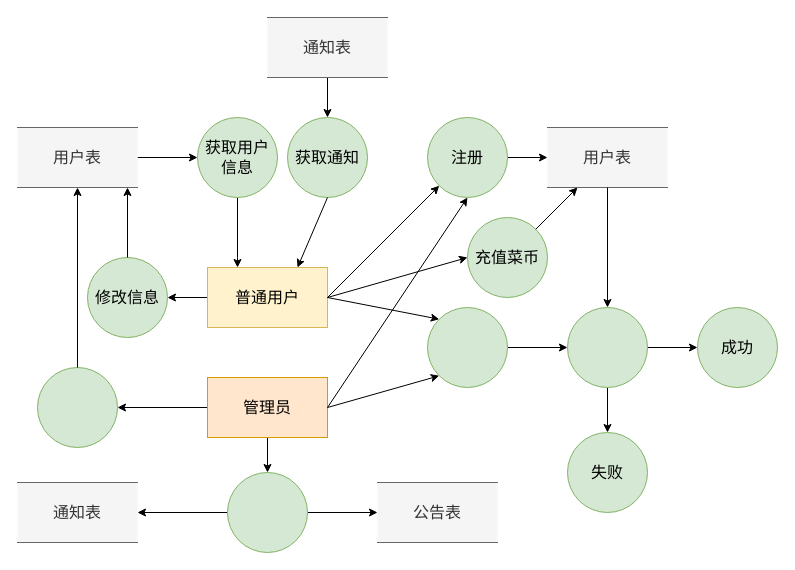
Some shapes in this 795 by 570 pixel diagram are drawn without their labels. The shapes that lost their labels are listed below. From the top down, each one's centre as x and y in pixels, then its label:
At (x=467, y=347): "登录".
At (x=607, y=347): "验证密码 验证状态".
At (x=77, y=407): "封禁/解封 用户".
At (x=267, y=512): "发布公告".
